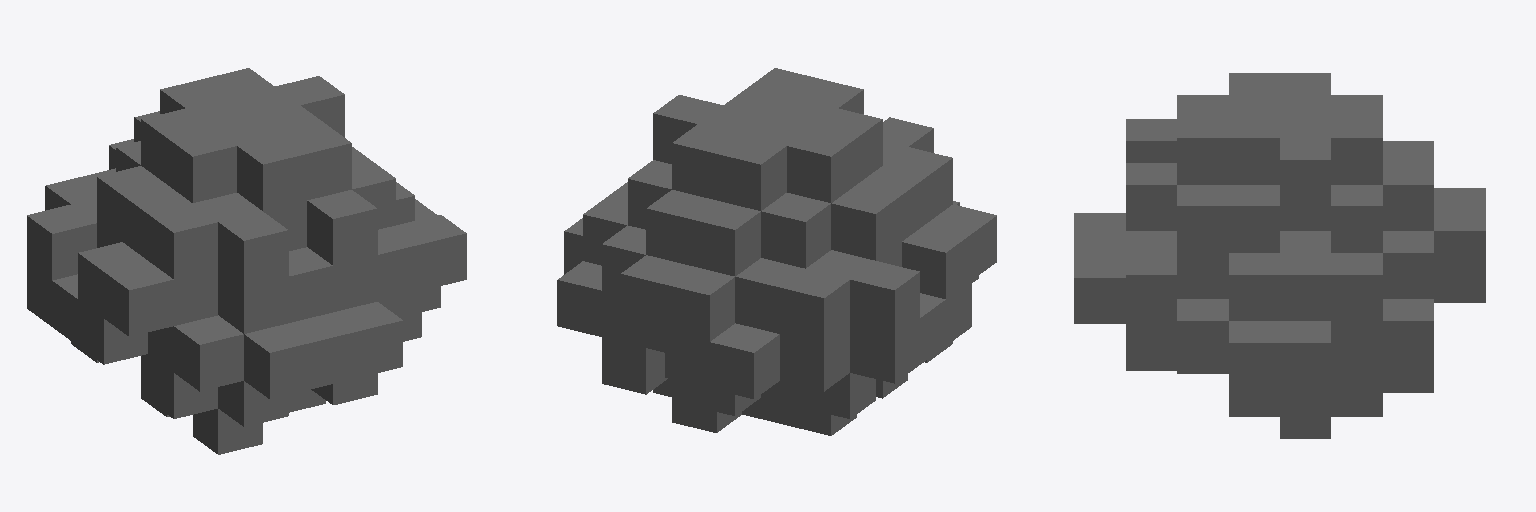
3 renders of one model, left to right at view 1: azimuth 30°, elevation 25°; view 2: azimuth 150°, elevation 25°; view 3: azimuth 270°, elevation 25°, orthographic.
Visible parts, largest first — view 1: CampFireStone; view 2: CampFireStone; view 3: CampFireStone.
Part boxes in pixels (x1,y1,x2,y2): CampFireStone: (27, 68, 466, 454); CampFireStone: (557, 68, 996, 435); CampFireStone: (1074, 73, 1485, 438).
Size of the model in its own units: 8 by 6 by 8.
1 materials, 1 textured.